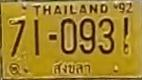0: (60, 17, 76, 53)
1: (123, 16, 128, 54), (34, 19, 38, 55)
3: (98, 17, 114, 53)
7: (9, 18, 25, 56)
9: (79, 17, 95, 53)
SKA: (51, 61, 93, 74)
